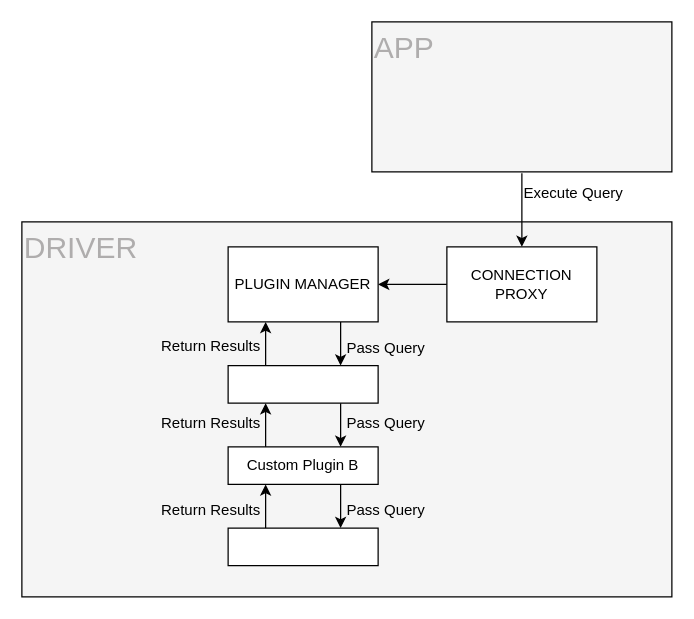
Some shapes in this 694 by 619 pixel diagram are drawn without their labels. Here are the shapes that lost their labels. From the top down, the box of each, then its label:
(227, 364, 378, 403): Custom Plugin A
(227, 527, 378, 566): Default Plugin
